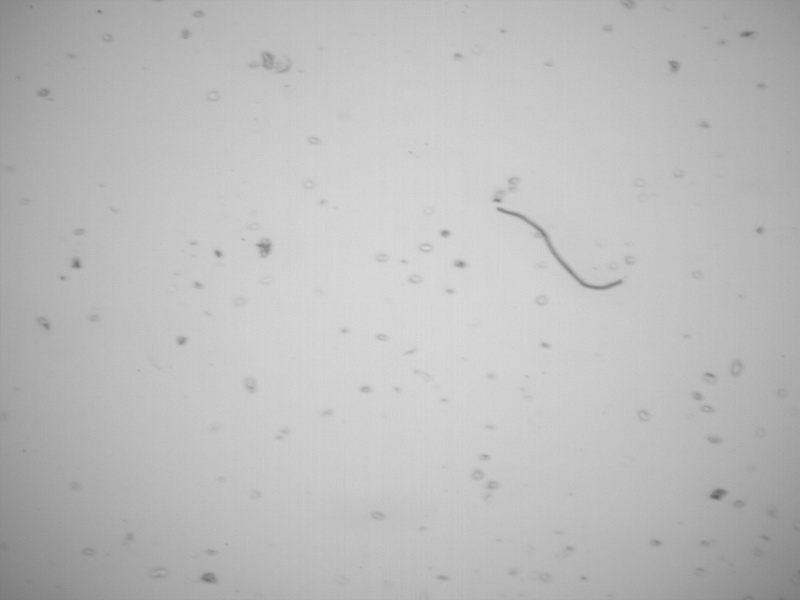fiber: (493, 203, 626, 293)
